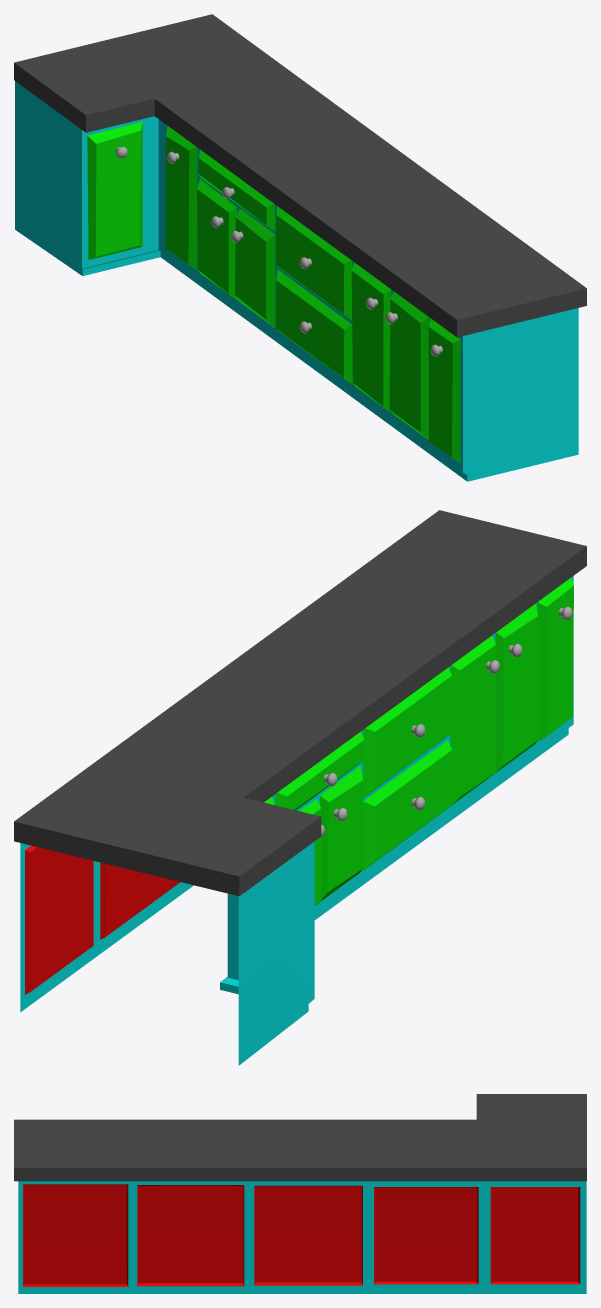
Rendered from Kitchen_Countertop_2.fbx.
3 renders of one model, top to bottom at view 1: azimuth 30°, elevation 25°; view 2: azimuth 150°, elevation 25°; view 3: azimuth 270°, elevation 25°, orthographic. The views are drawn at different scales.
Parts seen in each view (by area): view 1: Kitchen_Countertop_2; view 2: Kitchen_Countertop_2; view 3: Kitchen_Countertop_2.
Part boxes in pixels (box(x1,y1,x2,y2)): Kitchen_Countertop_2: box(14, 14, 586, 481); Kitchen_Countertop_2: box(14, 510, 586, 1065); Kitchen_Countertop_2: box(14, 1094, 586, 1293).
Bounding box in the file's own units: 153 × 123 × 499.
